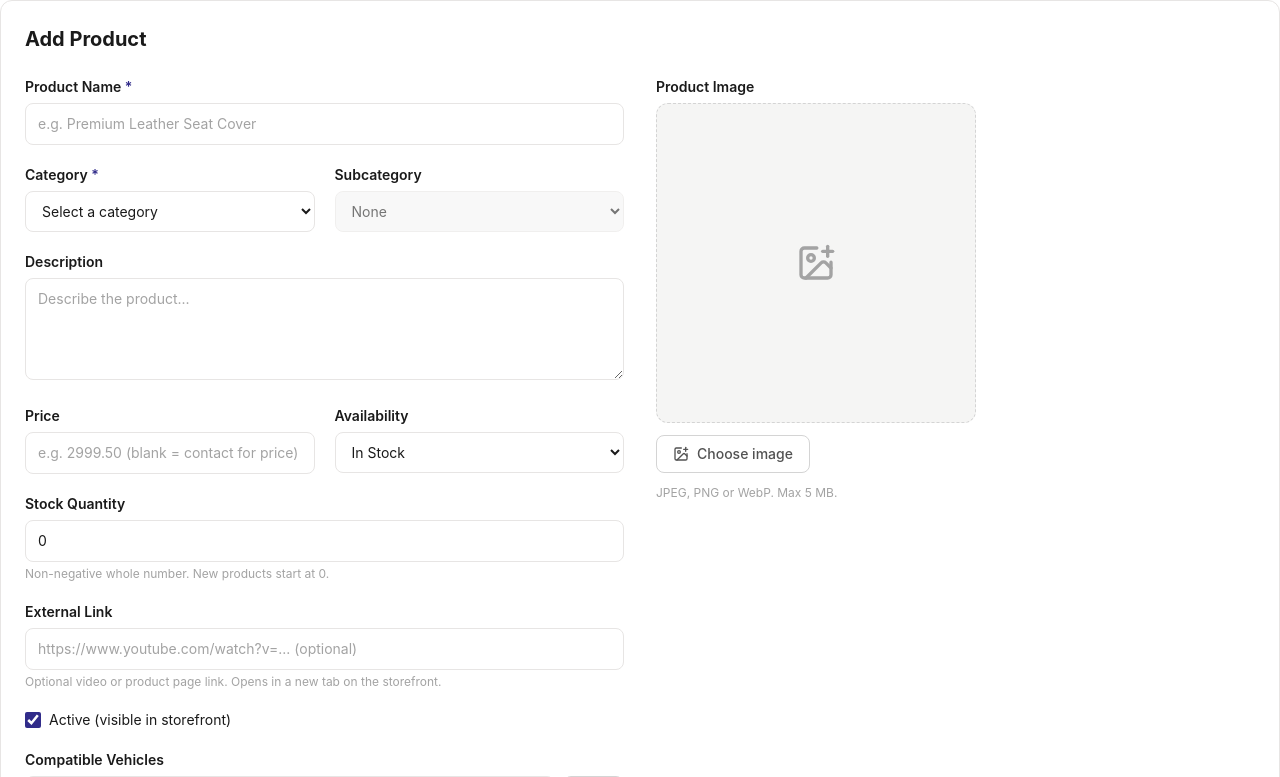
Test: ProductForm create mode › loads subcategories when a category is selected
Expected: the dropdown labelled "Subcategory" is disabled, [334,191,624,232]
Select "Seat Covers" in the dropdown labelled "Category *" at (170, 212), box [25,191,314,232]
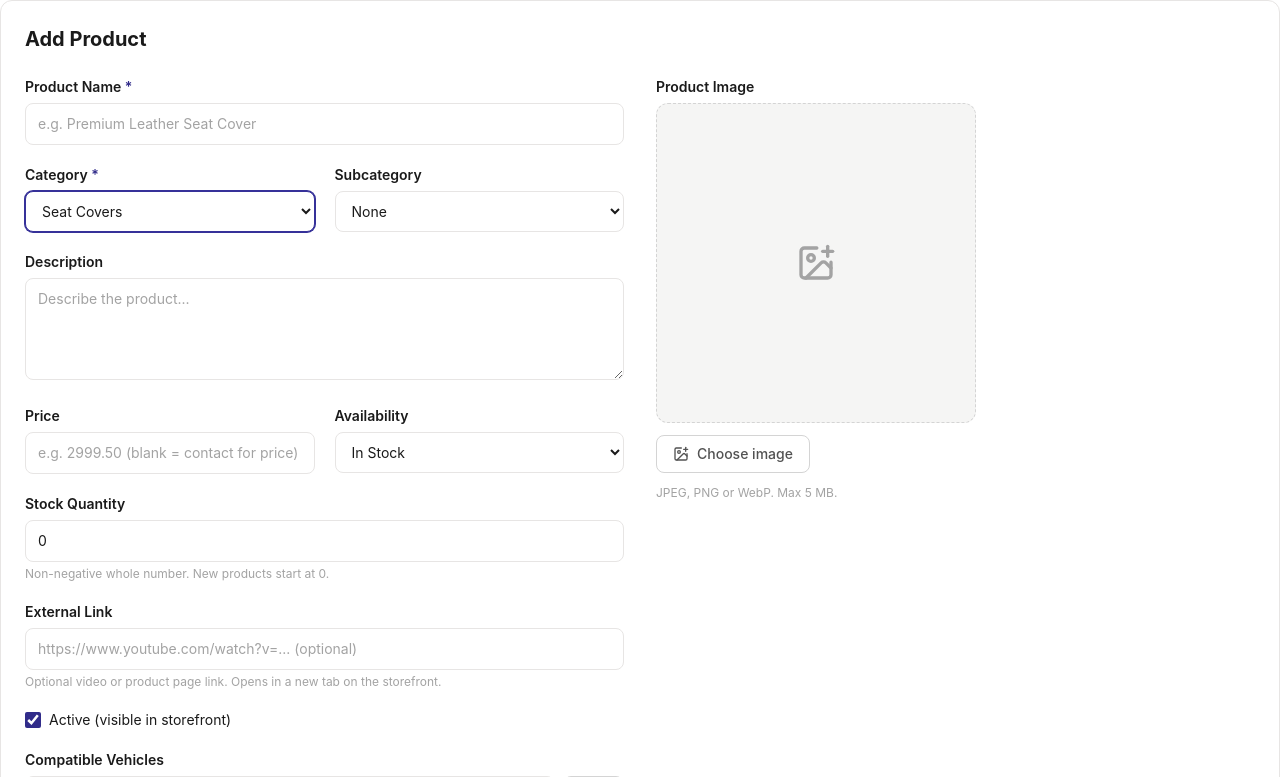
Expected: the dropdown labelled "Subcategory" is enabled, [334,191,624,232]
